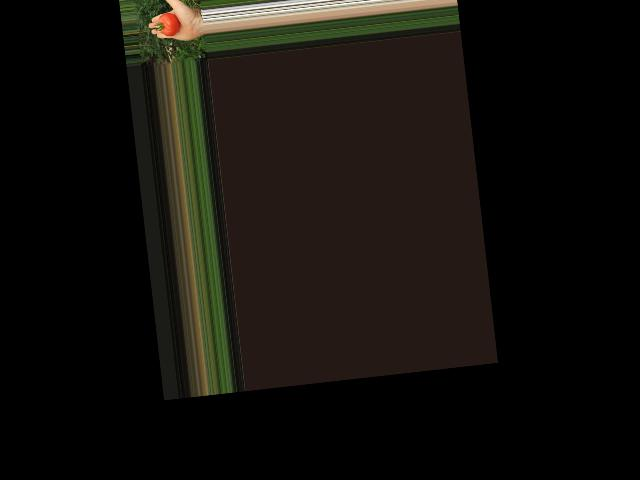tomato: (157, 11, 181, 38)
